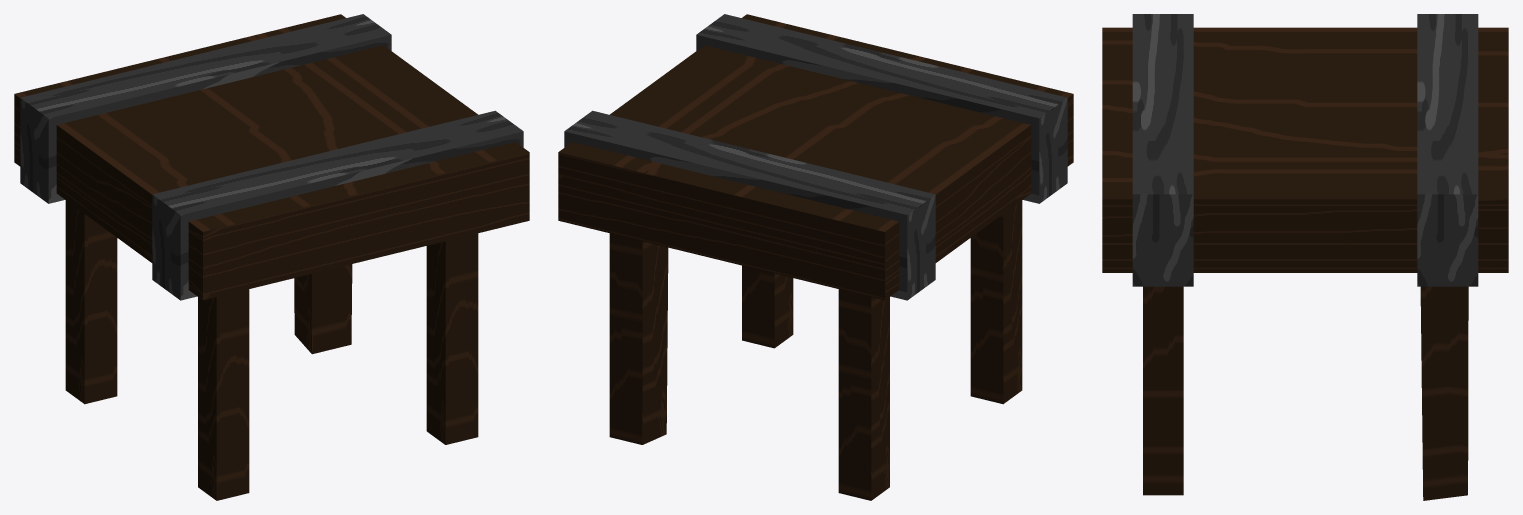
The model's file is Table.obj.
The picture shows the model from 3 angles, left to right: view 1: azimuth 30°, elevation 25°; view 2: azimuth 150°, elevation 25°; view 3: azimuth 270°, elevation 25°; orthographic projection. The views are drawn at different scales.
Parts seen in each view (by area): view 1: Cube_Cube.001, Steel-1_Cube, Steel-2_Cube.003, Leg-2_Cube.005, Leg-1_Cube.004, Leg-3_Cube.006, Leg-4_Cube.007; view 2: Cube_Cube.001, Steel-1_Cube, Steel-2_Cube.003, Leg-4_Cube.007, Leg-3_Cube.006, Leg-1_Cube.004, Leg-2_Cube.005; view 3: Cube_Cube.001, Steel-1_Cube, Steel-2_Cube.003, Leg-4_Cube.007, Leg-2_Cube.005.
Boxes of the visible parts, x1=… form: Cube_Cube.001: x1=14, y1=14, x2=529, y2=300; Steel-1_Cube: x1=152, y1=110, x2=523, y2=300; Steel-2_Cube.003: x1=20, y1=14, x2=391, y2=203; Leg-2_Cube.005: x1=426, y1=233, x2=478, y2=444; Leg-1_Cube.004: x1=198, y1=289, x2=249, y2=500; Leg-3_Cube.006: x1=65, y1=200, x2=117, y2=404; Leg-4_Cube.007: x1=294, y1=264, x2=352, y2=354; Cube_Cube.001: x1=558, y1=14, x2=1073, y2=300; Steel-1_Cube: x1=696, y1=14, x2=1067, y2=203; Steel-2_Cube.003: x1=564, y1=110, x2=935, y2=300; Leg-4_Cube.007: x1=609, y1=233, x2=668, y2=444; Leg-3_Cube.006: x1=838, y1=289, x2=889, y2=500; Leg-1_Cube.004: x1=970, y1=200, x2=1022, y2=404; Leg-2_Cube.005: x1=742, y1=265, x2=793, y2=348; Cube_Cube.001: x1=1102, y1=27, x2=1508, y2=272; Steel-1_Cube: x1=1132, y1=14, x2=1193, y2=286; Steel-2_Cube.003: x1=1417, y1=14, x2=1478, y2=286; Leg-4_Cube.007: x1=1420, y1=286, x2=1468, y2=500; Leg-2_Cube.005: x1=1143, y1=286, x2=1183, y2=495.
Bounding box in the file's own units: 2.1 × 1.77 × 2.
